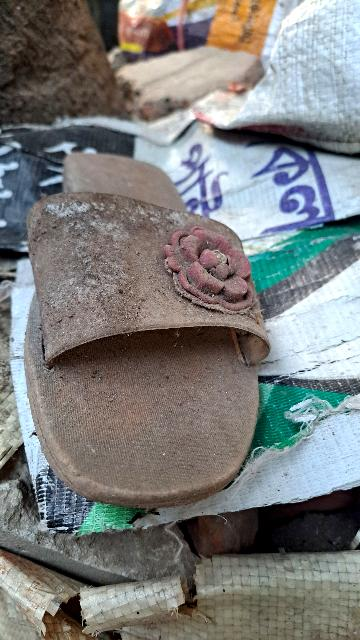sandal: (6, 106, 281, 519)
